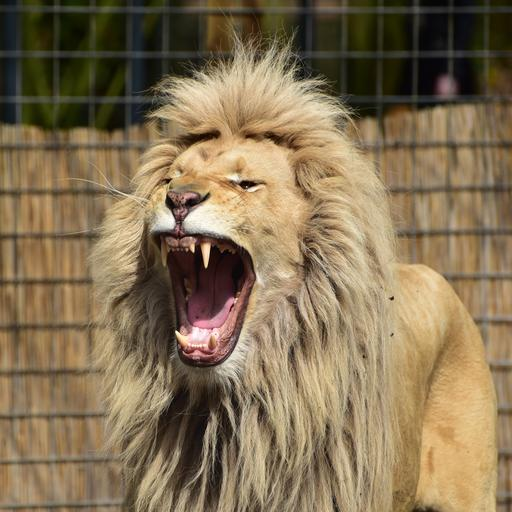Lion: (81, 32, 512, 512)
